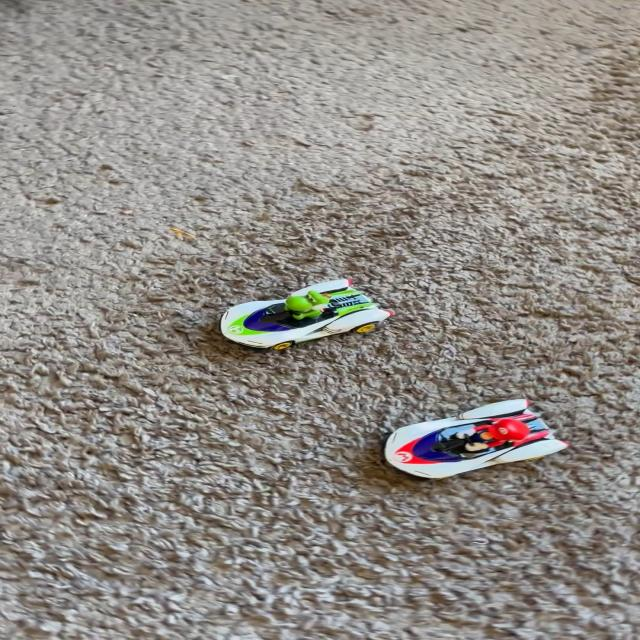mario: (373, 387, 581, 488)
yoshi: (205, 272, 399, 356)
